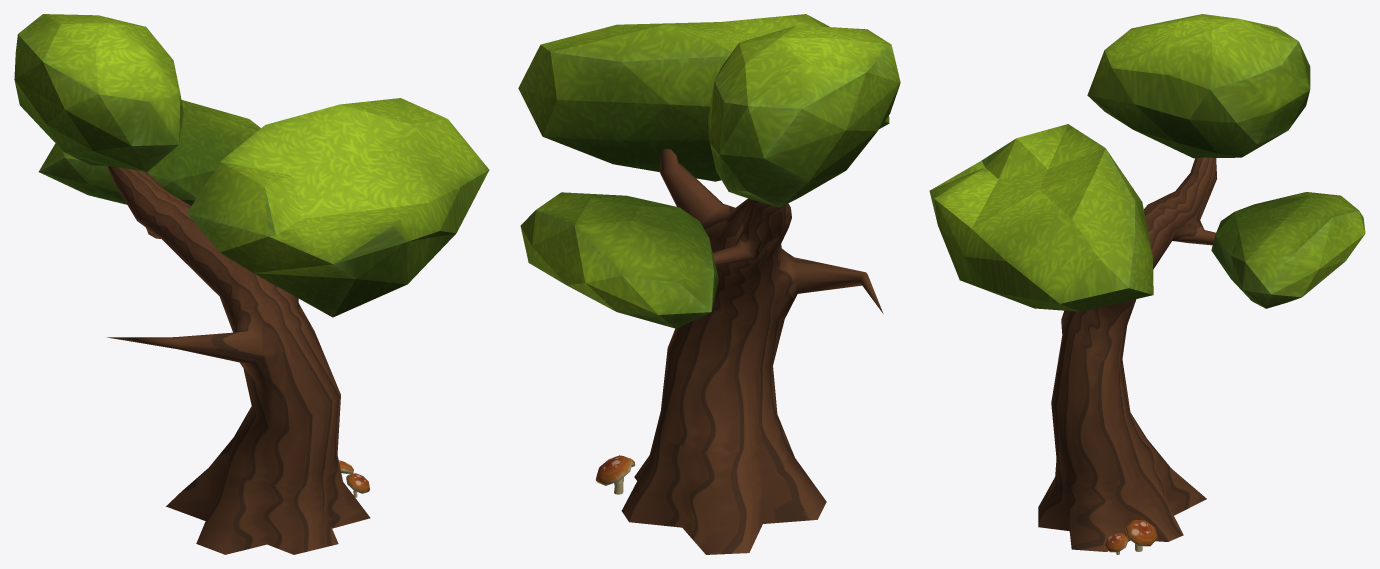
File: Tree-Low-Poly-toon.fbx
3 renders of one model, left to right at view 1: azimuth 30°, elevation 25°; view 2: azimuth 150°, elevation 25°; view 3: azimuth 270°, elevation 25°, orthographic. The views are drawn at different scales.
Visible parts, largest first — view 1: Icosphere.001, Tree; view 2: Icosphere.001, Tree, Mushroom; view 3: Icosphere.001, Tree, Mushroom.
Boxes of the visible parts, x1,y1,x2,y2 form: Icosphere.001: (14, 14, 489, 317); Tree: (107, 166, 370, 554); Icosphere.001: (518, 14, 900, 328); Tree: (621, 76, 883, 554); Mushroom: (595, 455, 632, 494); Icosphere.001: (929, 14, 1365, 311); Tree: (1038, 157, 1217, 551); Mushroom: (1125, 520, 1157, 551).
Bounding box in the file's own units: 527 × 652 × 588.
3 materials, 3 textured.
